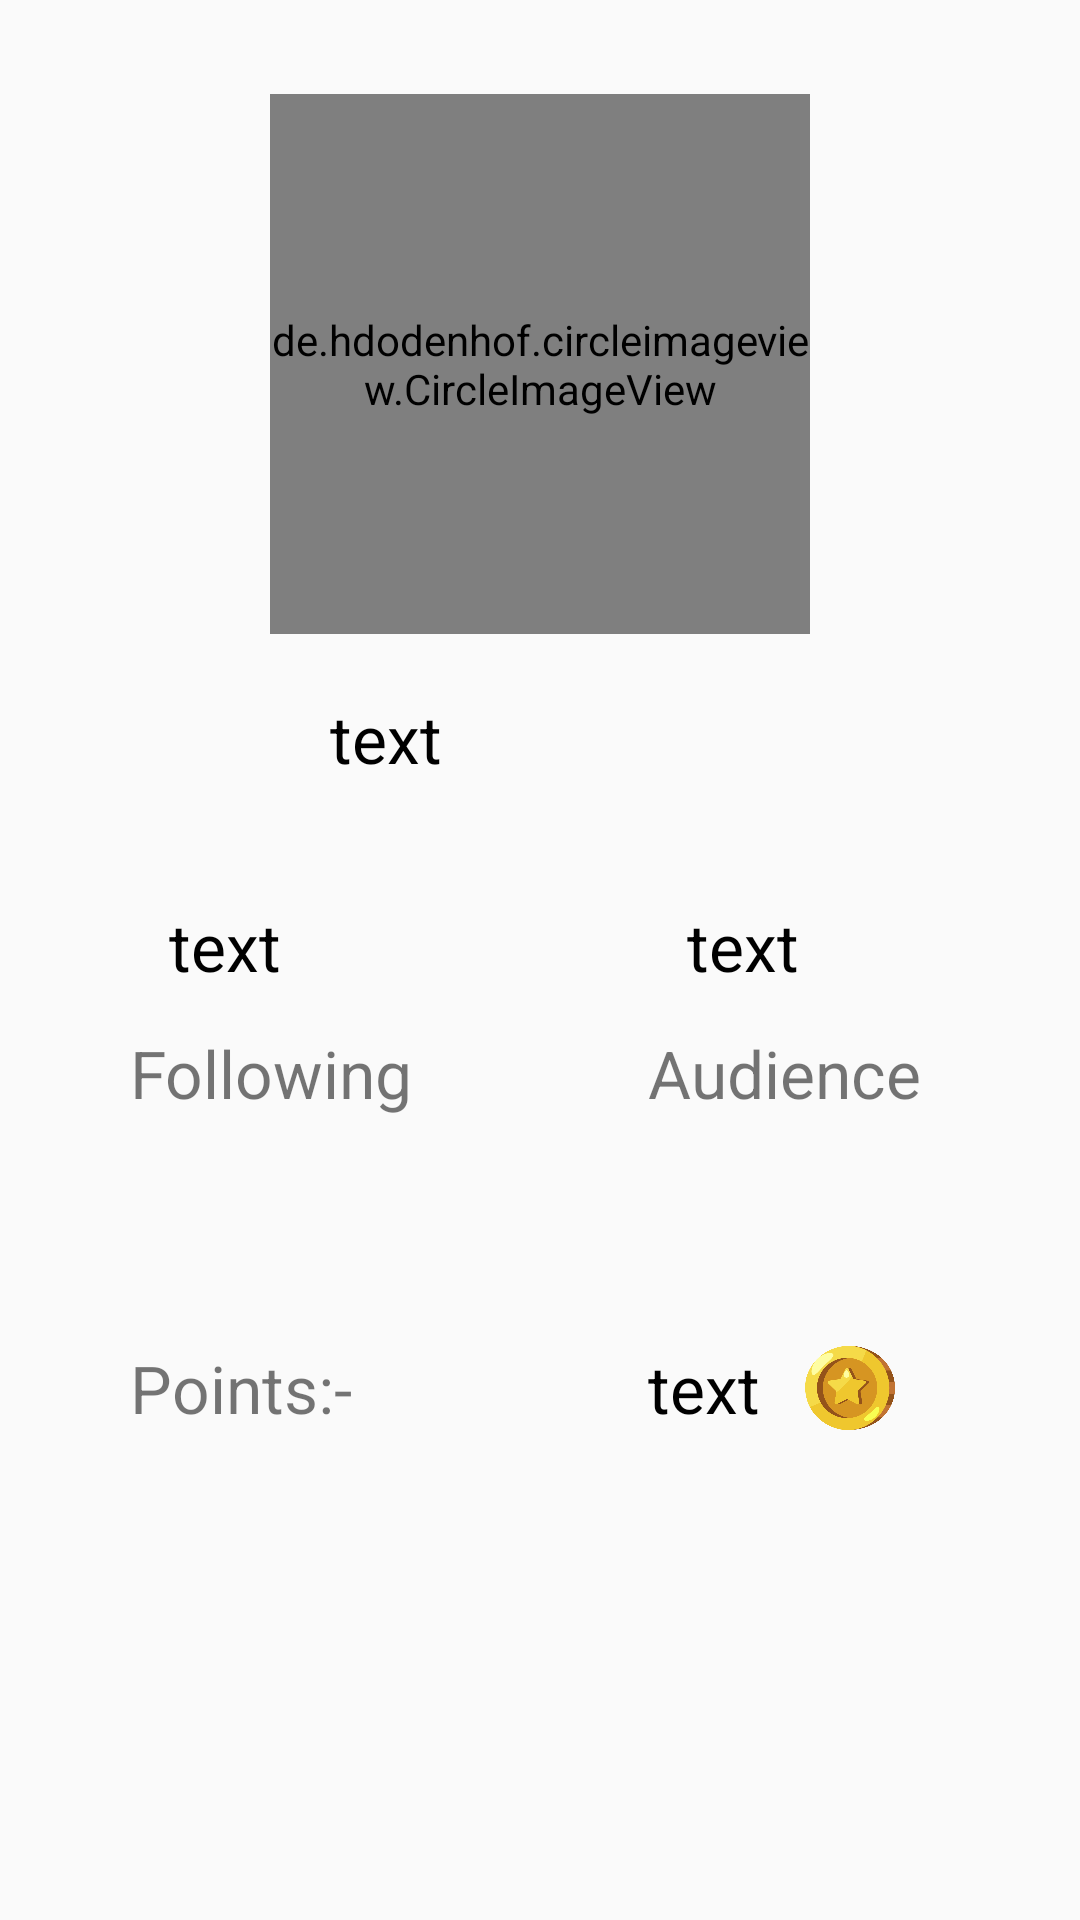

Screen size 1080px x 1920px. Icon name, then its center in pixels as point (x, y):
coin: point (850, 1388)
